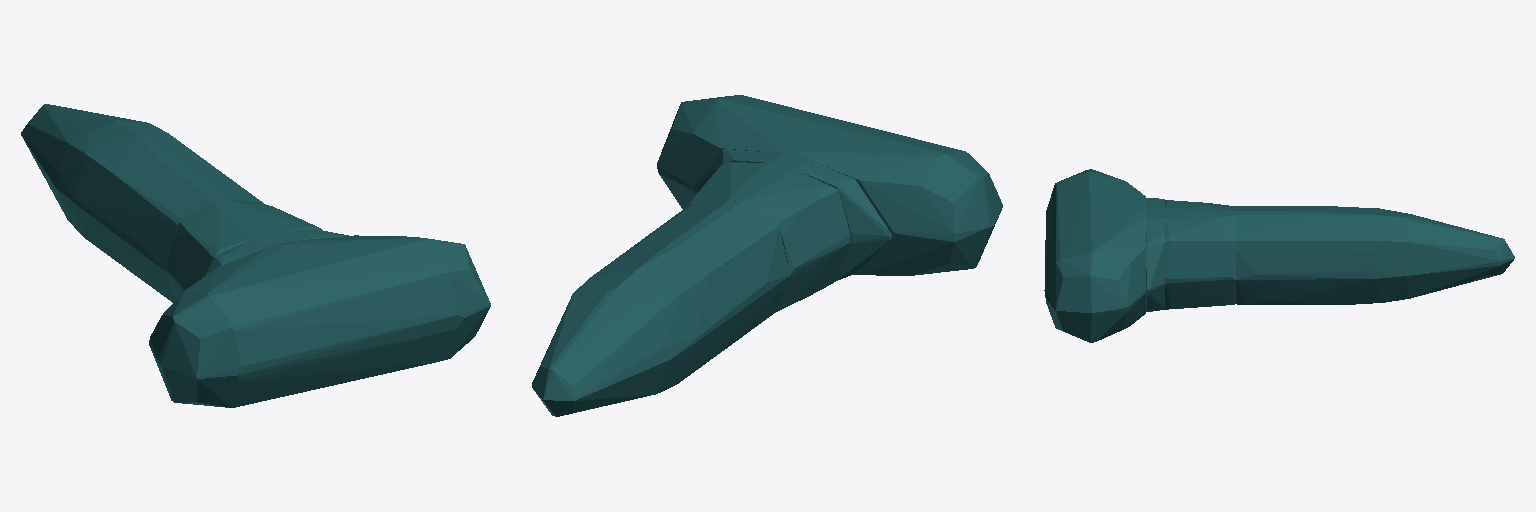
The robot description file, URDF, robot "blob313":
<robot name="blob313">
  <link name="random_obj_313">
    <contact>
      <lateral_friction value="1.0"/>
      <rolling_friction value="0.0"/>
      <inertia_scaling value="3.0"/>
      <contact_cfm value="0.0"/>
      <contact_erp value="1.0"/>
    </contact>
    <inertial>
      <origin rpy="0 0 0" xyz="0 0 0"/>
      <mass value="0.1"/>
      <inertia ixx="1" ixy="0" ixz="0" iyy="1" iyz="0" izz="0"/>
    </inertial>
    <visual>
      <origin rpy="0 0 0" xyz="0 0 0"/>
      <geometry>
        <mesh filename="313.obj" scale="0.015 0.015 0.015"/>
      </geometry>
      <material name="blockmat">
        <color rgba="0.20 0.41 0.42 1"/>
      </material>
    </visual>
    <collision>
      <origin rpy="0 0 0" xyz="0 0 0"/>
      <geometry>
        <mesh filename="313.obj" scale="0.015 0.015 0.015"/>
      </geometry>
    </collision>
  </link>
</robot>

--- Render facts (derived) ---
The picture shows the robot from 3 angles, left to right: view 1: azimuth 30°, elevation 25°; view 2: azimuth 150°, elevation 25°; view 3: azimuth 270°, elevation 25°; orthographic projection.
Model blob313 with 1 links and 0 joints (none), rooted at random_obj_313, posed every joint at zero.
Visible links, largest first — view 1: random_obj_313; view 2: random_obj_313; view 3: random_obj_313.
Link boxes in pixels (left/top/right/bottom): random_obj_313: left=21, top=104, right=490, bottom=407; random_obj_313: left=532, top=95, right=1002, bottom=416; random_obj_313: left=1044, top=169, right=1514, bottom=342.
Size in the robot's own frame: 0.0894 by 0.1513 by 0.0315 metres.
Meshes: 1 distinct files referenced, 1 mesh visuals loaded (1 OBJ).